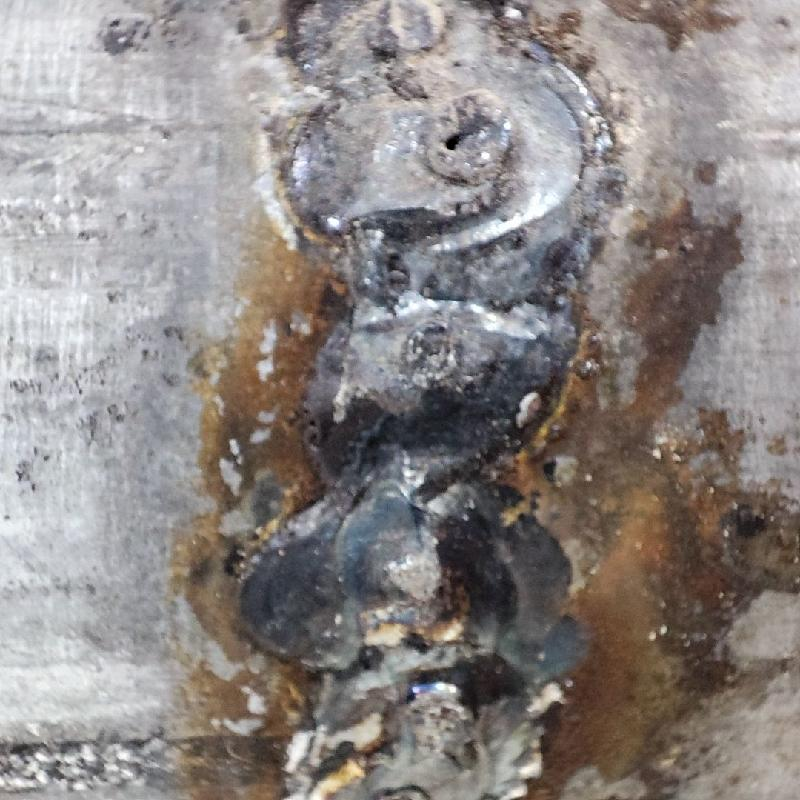Not_fully_soldered: (277, 11, 600, 295)
Surface_pores: (432, 118, 491, 169)
wrong_size: (248, 297, 579, 798)
